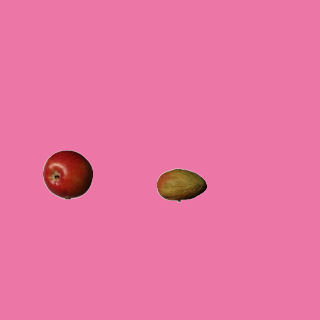Apple Braeburn: (42, 149, 92, 199)
Papaya: (156, 160, 206, 210)
